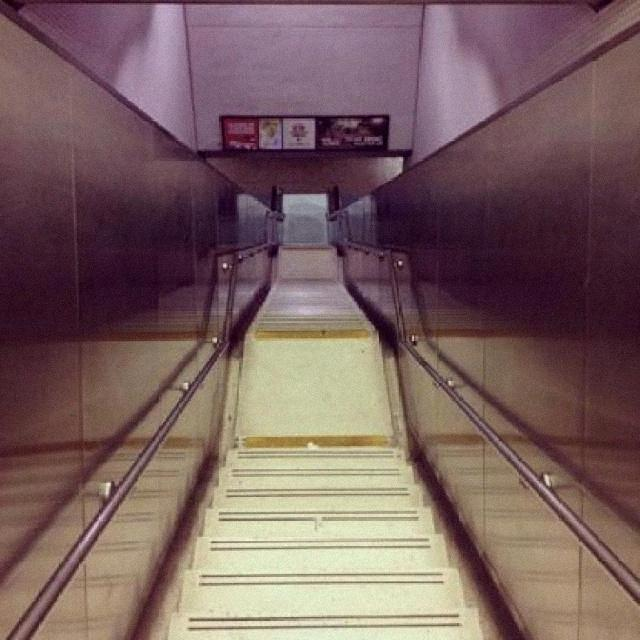stair: (168, 278, 483, 640)
